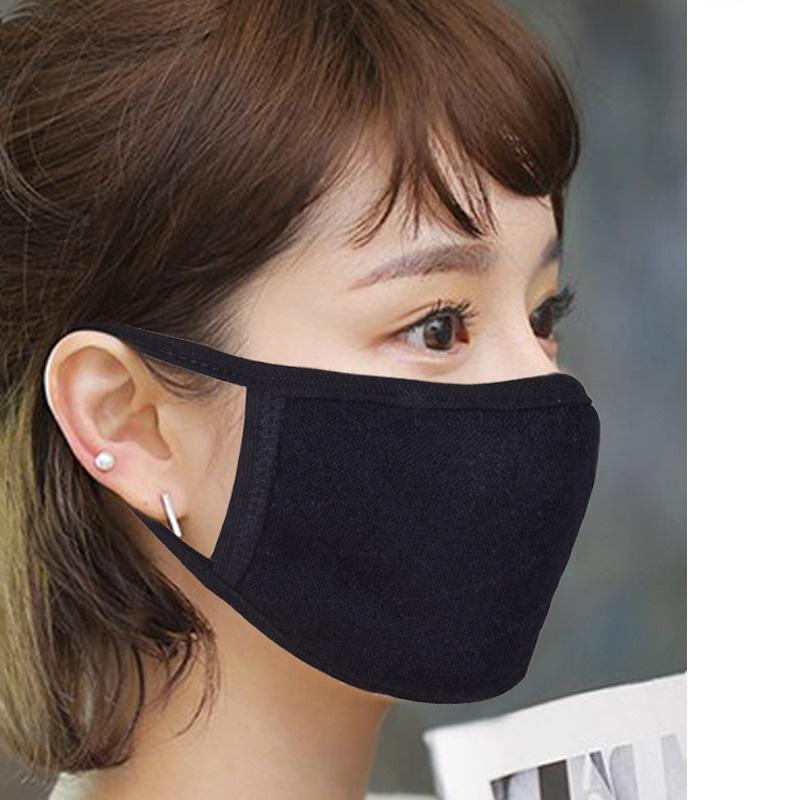OK: (180, 209, 597, 705)
